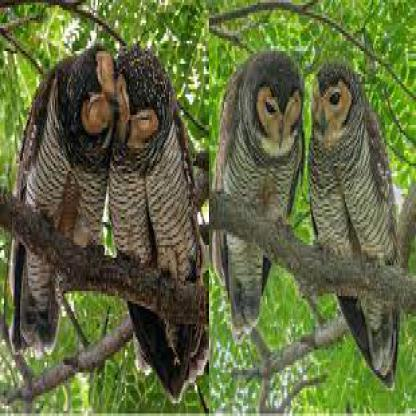owl: (21, 24, 138, 415), (110, 36, 222, 416), (309, 21, 385, 414), (222, 34, 294, 403)
